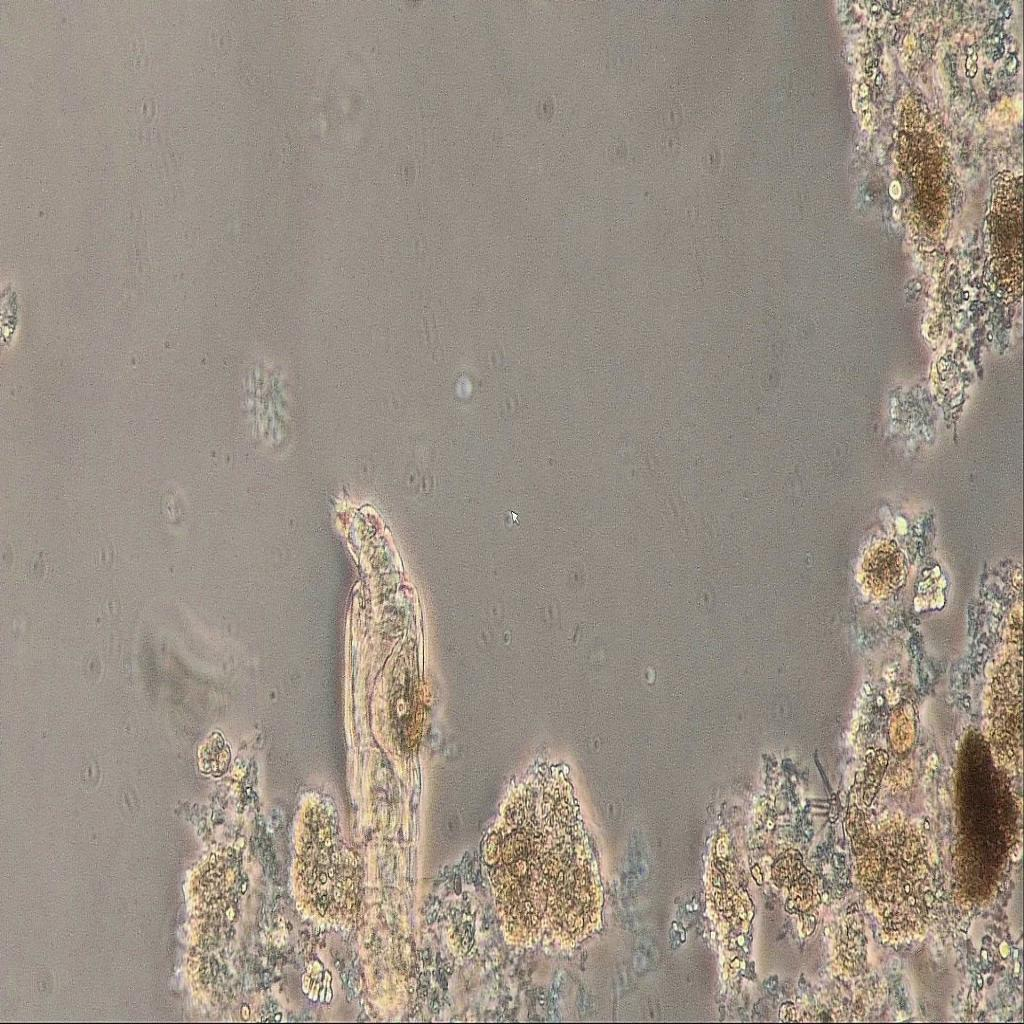Rotatoria: (324, 482, 438, 1024)
